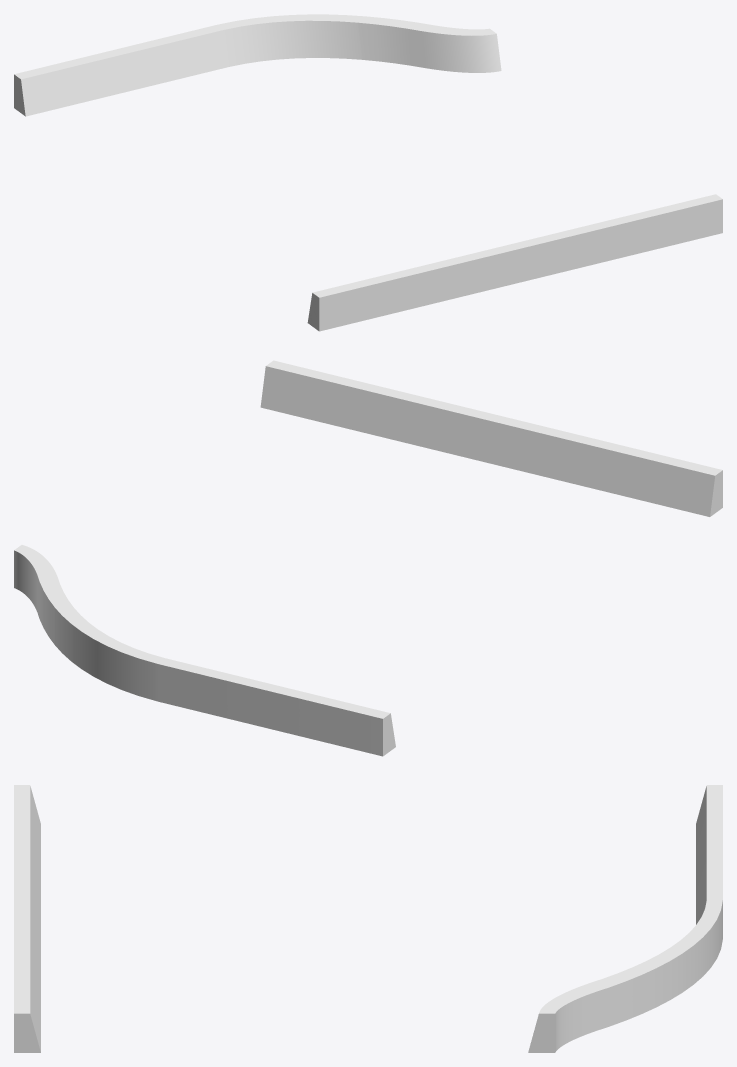
File: road-side-entry-barrier.glb
The picture shows the model from 3 angles, top to bottom: view 1: azimuth 30°, elevation 25°; view 2: azimuth 150°, elevation 25°; view 3: azimuth 270°, elevation 25°; orthographic projection. The views are drawn at different scales.
Parts seen in each view (by area): view 1: road-side-entry-barrier; view 2: road-side-entry-barrier; view 3: road-side-entry-barrier.
Boxes of the visible parts, x1,y1,x2,y2 form: road-side-entry-barrier: (14, 14, 722, 331); road-side-entry-barrier: (14, 360, 722, 756); road-side-entry-barrier: (14, 785, 722, 1052).
Bounding box in the file's own units: 1 × 0.08 × 1.31.
Materials: 1 (1 with a texture image).
